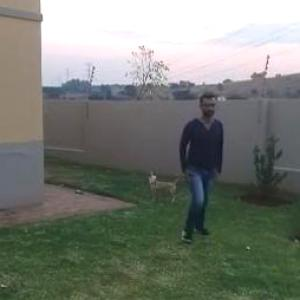follow: (174, 89, 224, 243)
